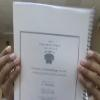notebook: (12, 1, 95, 99)
